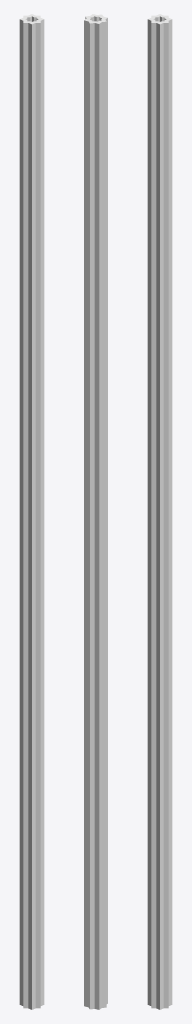
File: starPlinthGlow.fbx
3 renders of one model, left to right at view 1: azimuth 90°, elevation 25°; view 2: azimuth 150°, elevation 25°; view 3: azimuth 270°, elevation 25°, orthographic.
Parts seen in each view (by area): view 1: starPlinthGlow; view 2: starPlinthGlow; view 3: starPlinthGlow.
Part boxes in pixels (x1,y1,x2,y2): starPlinthGlow: [19, 14, 44, 1009]; starPlinthGlow: [84, 14, 107, 1009]; starPlinthGlow: [147, 14, 172, 1009].
Bounding box in the file's own units: 1.21 × 53.34 × 1.21.
1 material, 1 textured.
